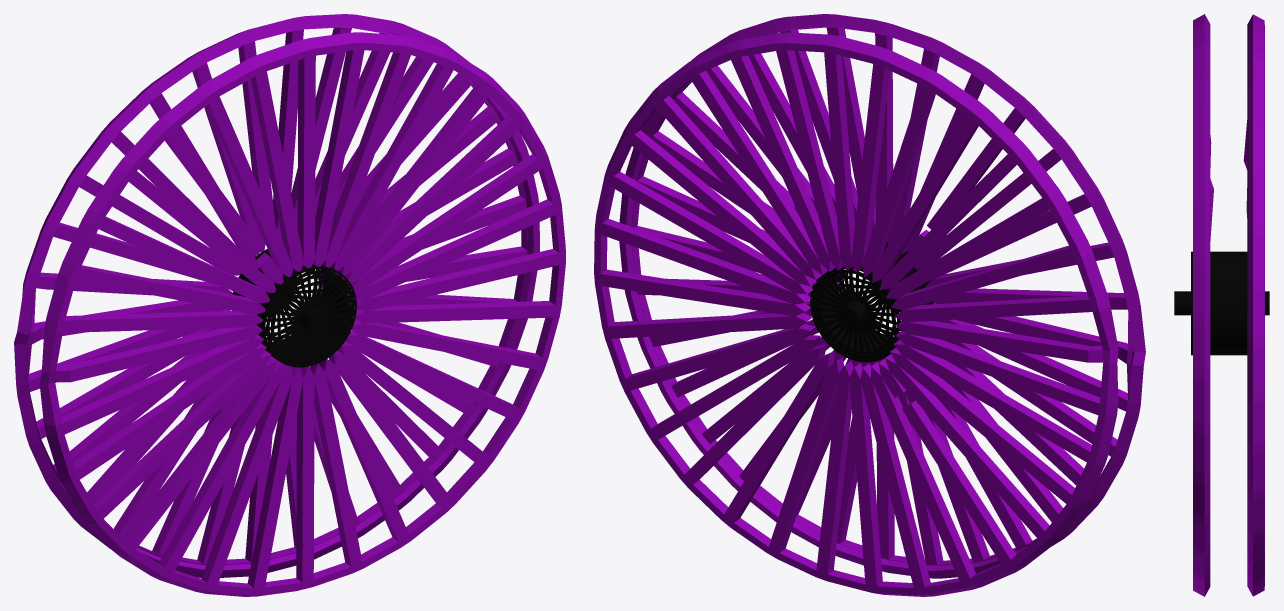
File: FerryWheel.glb
3 views of the same model, side by side, from view 1: azimuth 30°, elevation 25°; view 2: azimuth 150°, elevation 25°; view 3: azimuth 270°, elevation 25° (orthographic). The views are drawn at different scales.
Parts seen in each view (by area): view 1: Ferry Wheel, Cylinder; view 2: Ferry Wheel, Cylinder; view 3: Ferry Wheel, Cylinder.
Boxes of the visible parts, <box> form: Ferry Wheel: <box>14,14,565,596</box>; Cylinder: <box>232,249,356,367</box>; Ferry Wheel: <box>594,14,1145,596</box>; Cylinder: <box>809,242,933,362</box>; Ferry Wheel: <box>1193,14,1264,596</box>; Cylinder: <box>1174,251,1269,355</box>.
Size of the model in its own units: 22.15 by 22.15 by 3.62.
